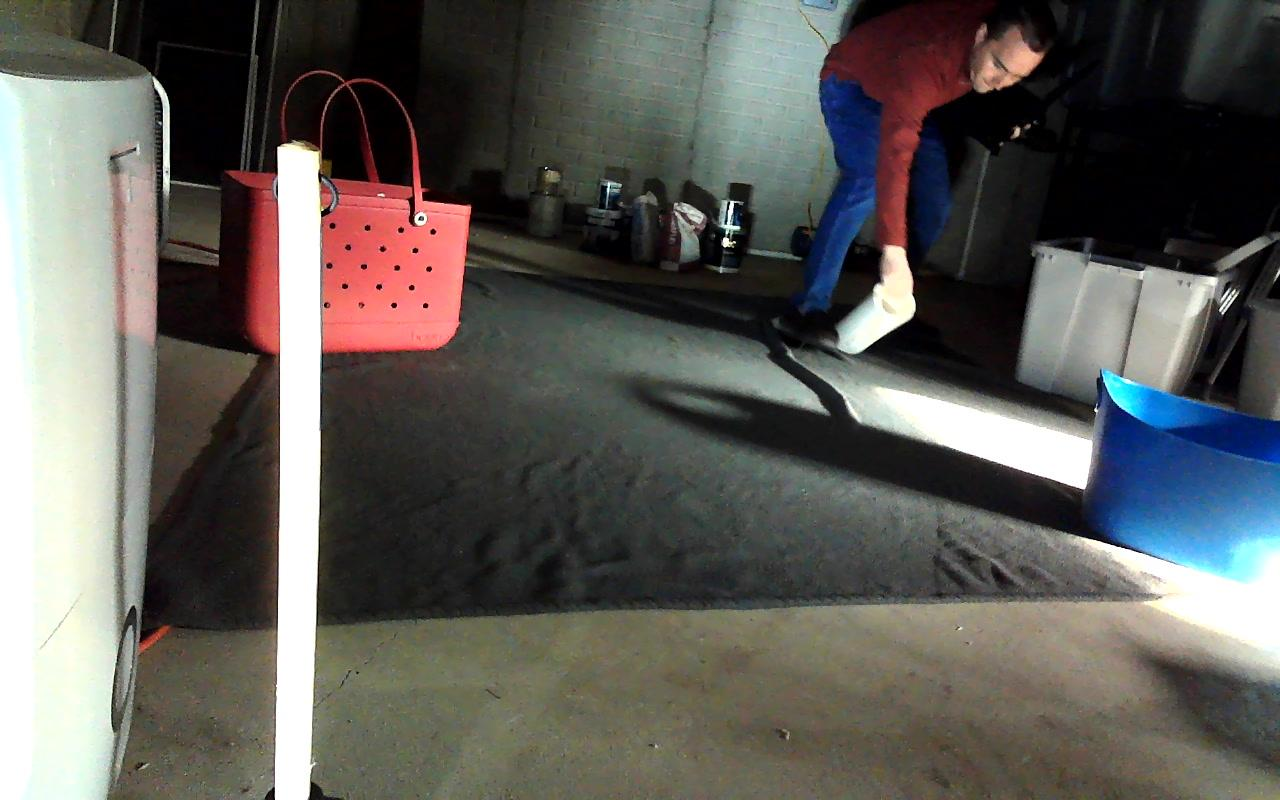coral: (839, 283, 916, 352)
